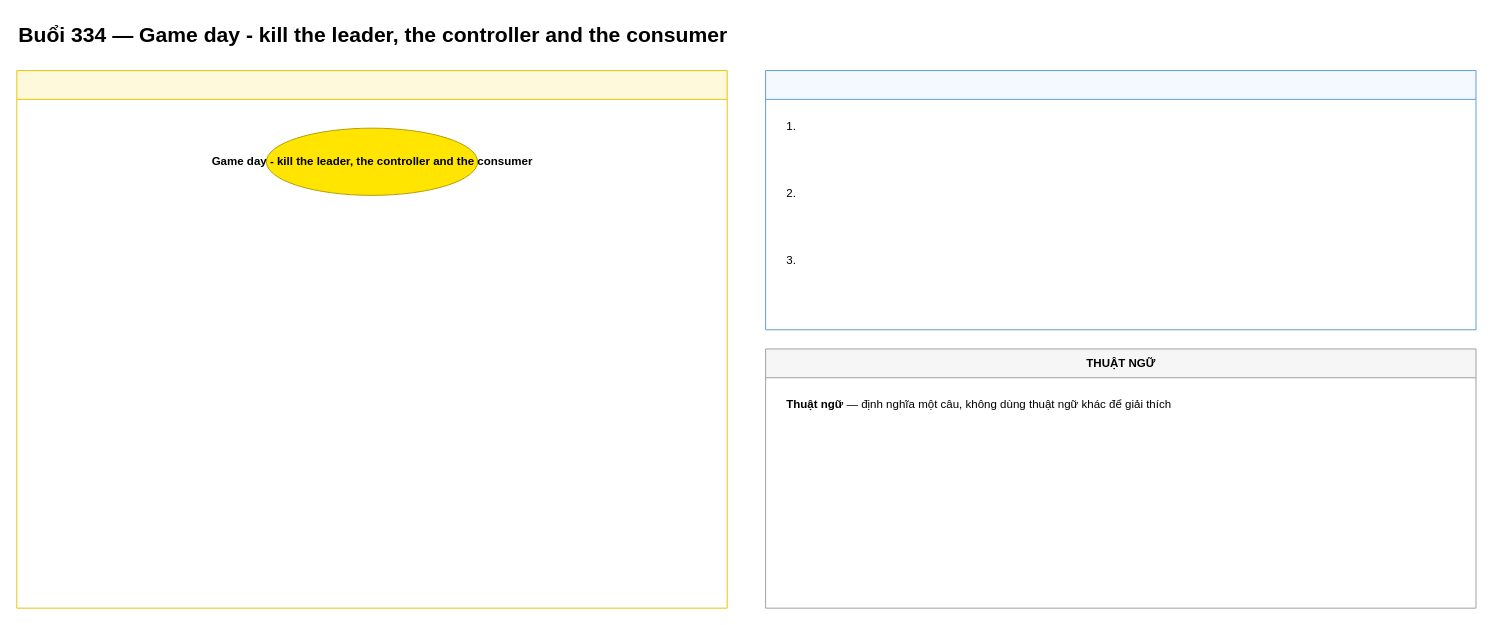
This 1493x625 diagram has some shape labels left out. Each missing label, with the box of its shape:
KEY TAKEAWAY — ba điều phải nhớ: (765, 70, 1476, 330)
MINDMAP: (16, 70, 727, 608)
